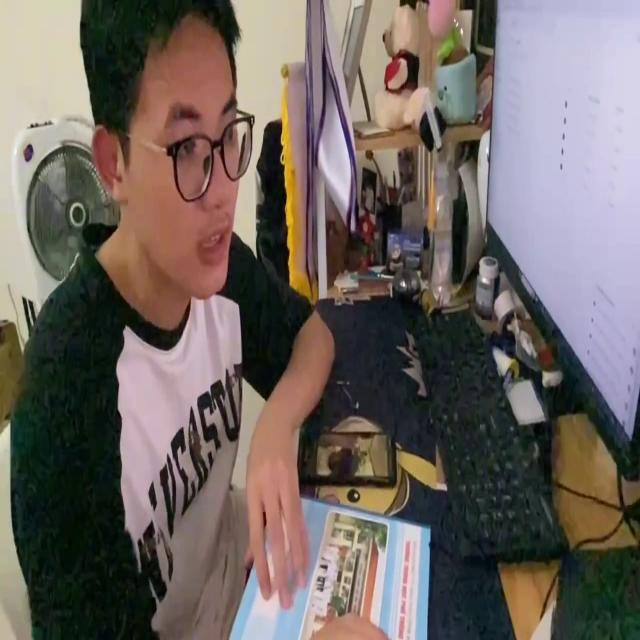book: (227, 483, 433, 640)
laptop: (484, 0, 640, 481)
phone: (296, 422, 398, 490)
student: (8, 0, 336, 640)
